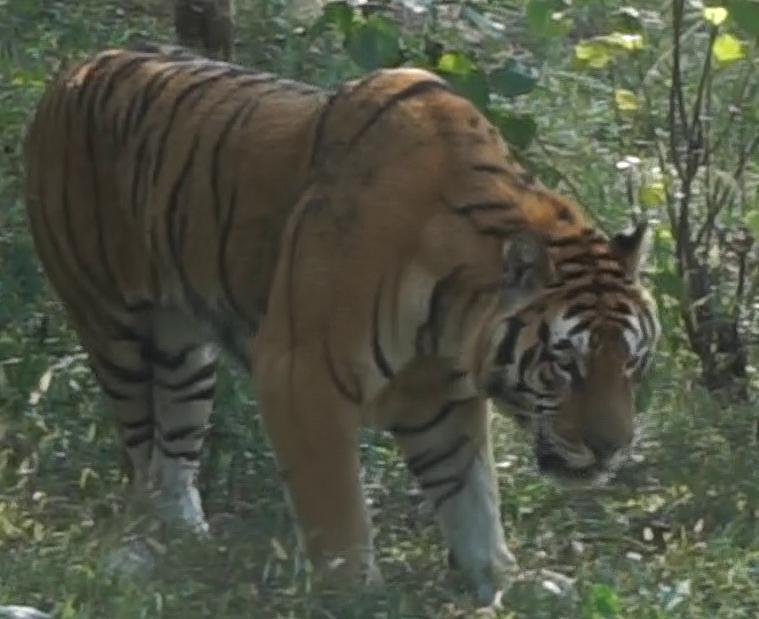tiger: (27, 46, 657, 603)
